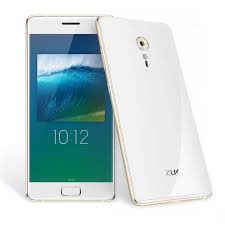lenovo: (21, 15, 112, 200)
